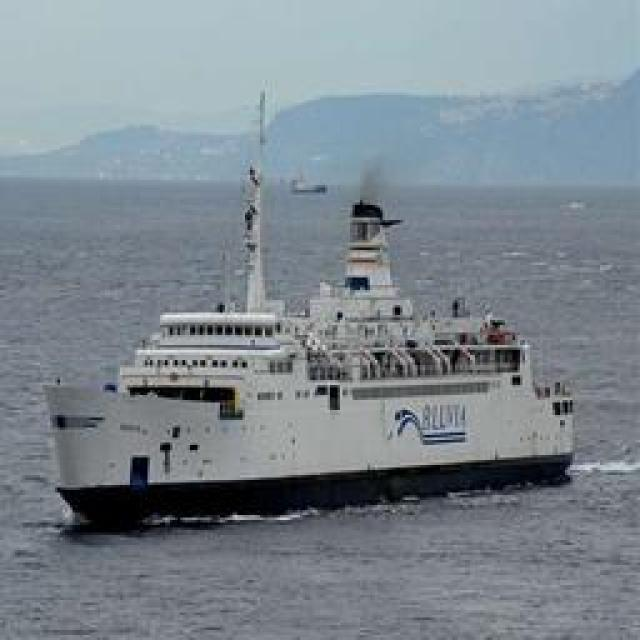CIV_Ship: (41, 120, 579, 515)
